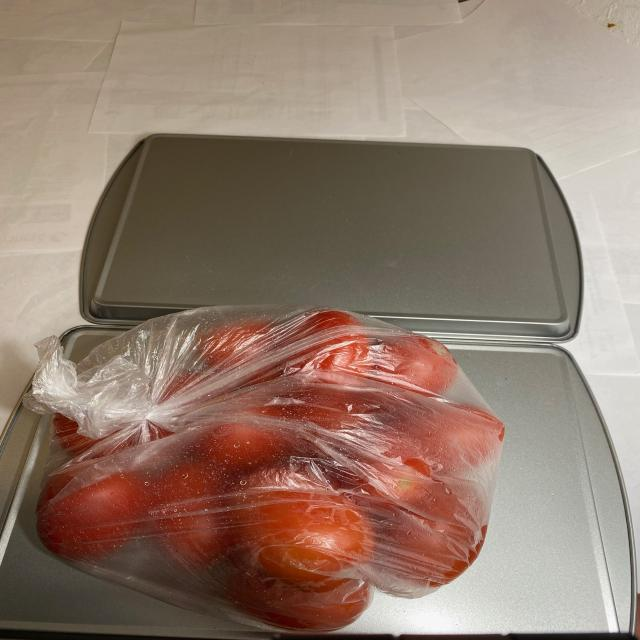tomato: (49, 312, 504, 621)
